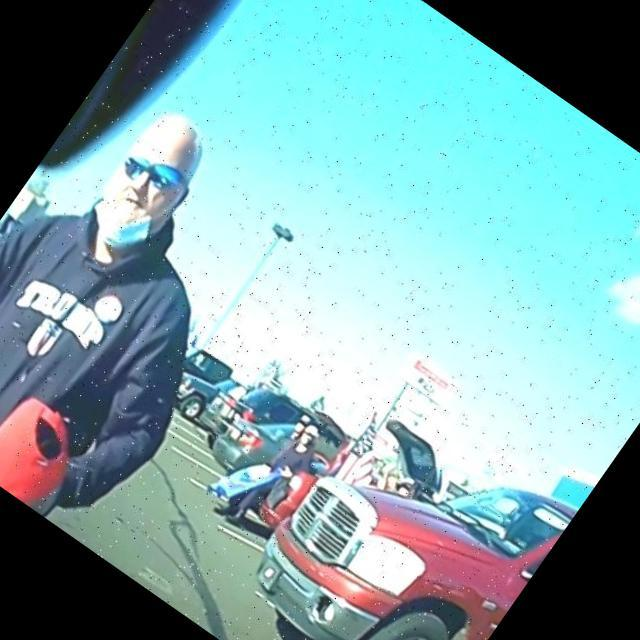person: (0, 64, 326, 551)
